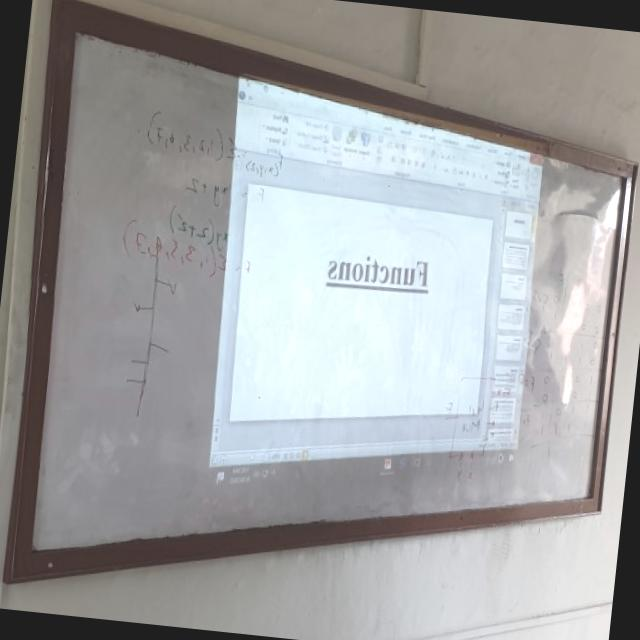Slide: (203, 81, 546, 499)
White-board: (16, 14, 632, 568)
